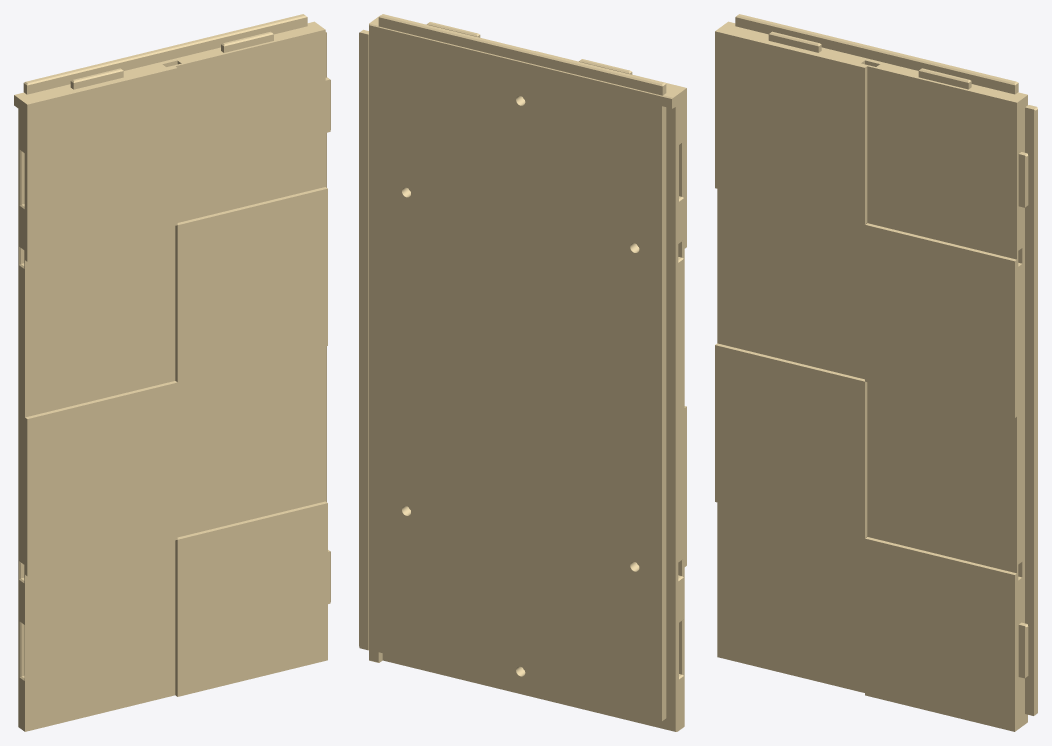
The model's file is .panel_south_cd_light_body.step.glb.
3 views of the same model, side by side, from view 1: azimuth 30°, elevation 25°; view 2: azimuth 150°, elevation 25°; view 3: azimuth 330°, elevation 25° (orthographic).
Parts seen in each view (by area): view 1: o1; view 2: o1; view 3: o1.
Part boxes in pixels (x1,y1,x2,y2): o1: (14, 14, 330, 731); o1: (359, 14, 686, 731); o1: (715, 14, 1037, 731).
Size of the model in its own units: 0.124 by 0.244 by 0.0096.
